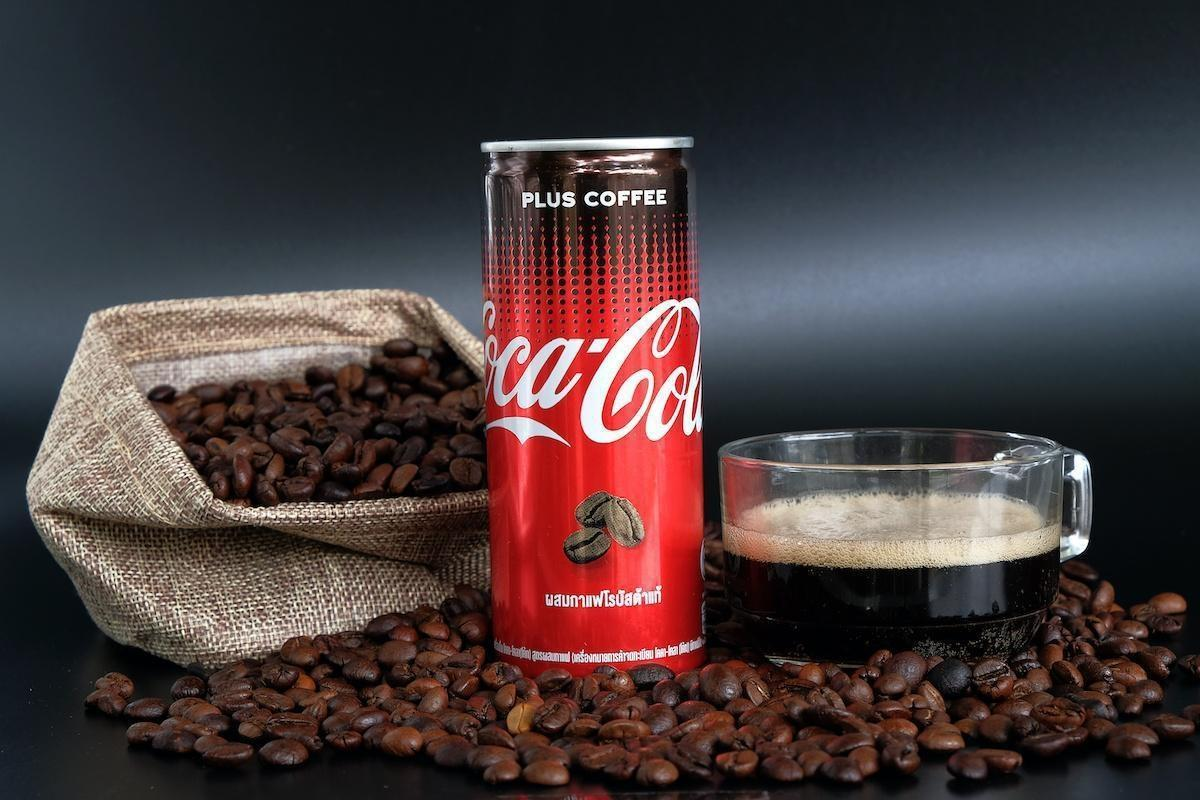glass-mug: (714, 424, 1093, 658)
tin can: (480, 129, 708, 680)
